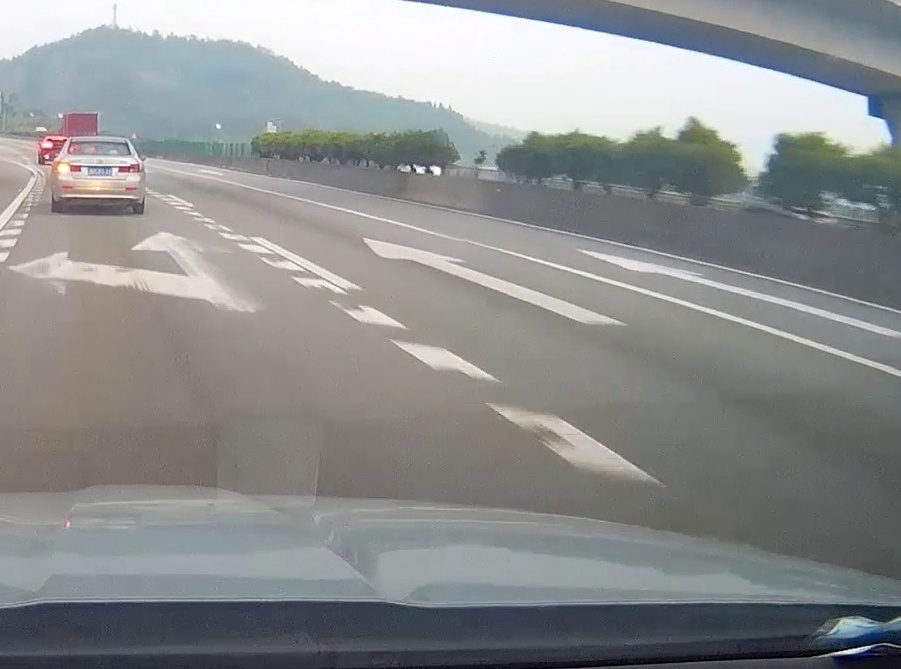L_light: (56, 162, 82, 172)
R_light: (118, 163, 140, 173)
T_light: (91, 153, 107, 155)
day-left: (51, 136, 145, 215)
